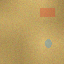person: (44, 38, 51, 47)
vehicle: (40, 8, 55, 17)
